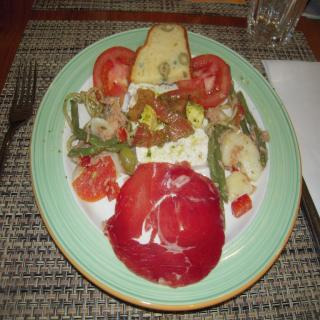tomato: (179, 54, 236, 96), (94, 48, 138, 99)
